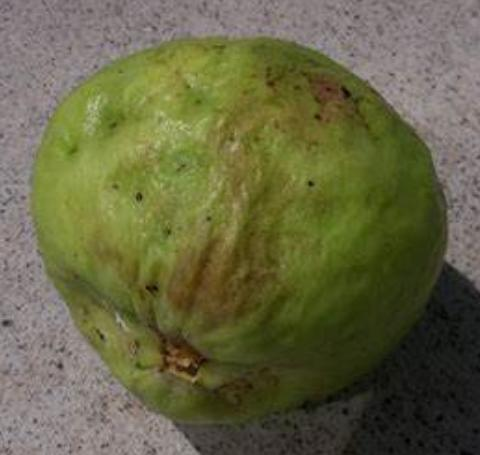guava_B: (30, 36, 447, 426)
